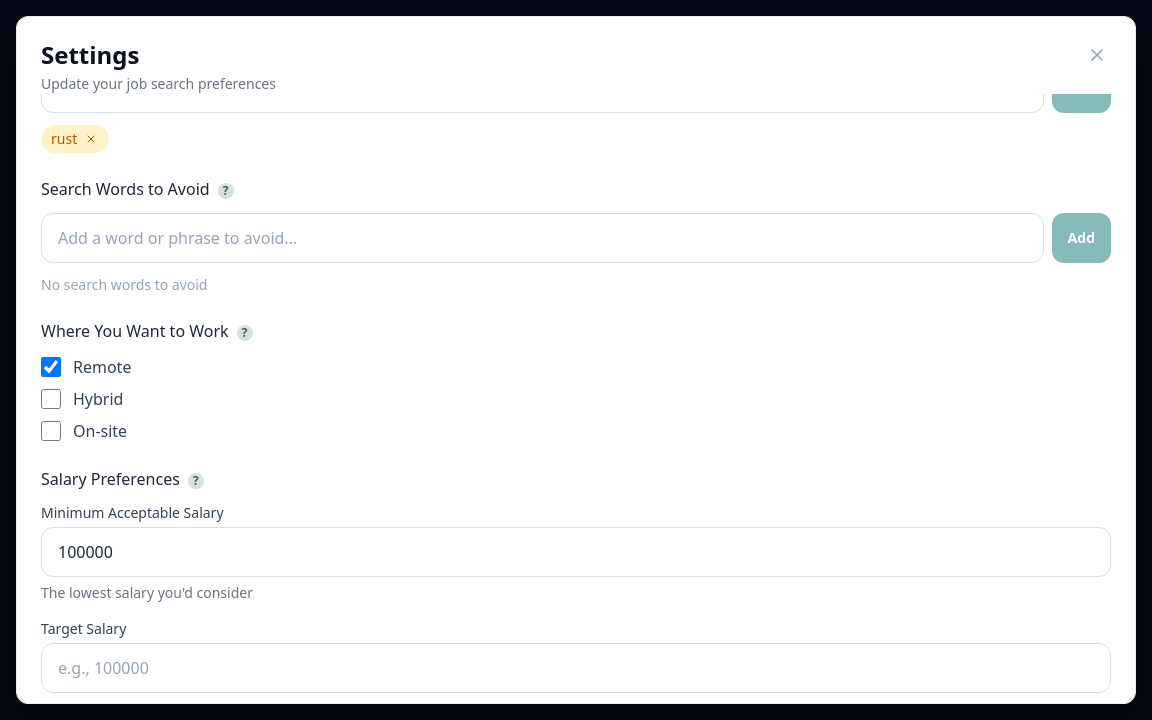
Scenario: Settings — loadConfig flow › does not detect location when settings opens
(page scrolled)
expect the heading "Settings" is shown: met, box [41,38,140,71]
Click the checkbox labelled "Hybrid" at (51, 399), box [41,389,61,409]
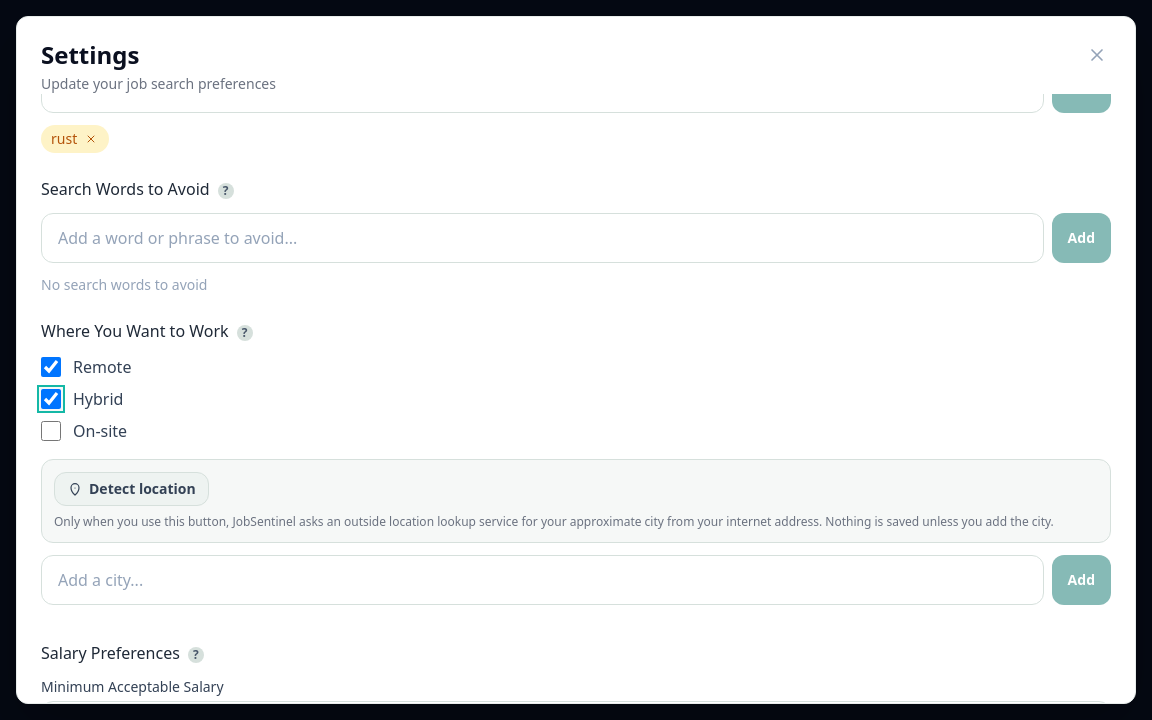
expect the text "nothing is saved unless you add the city" is shown: met, box [54,513,1054,530]
